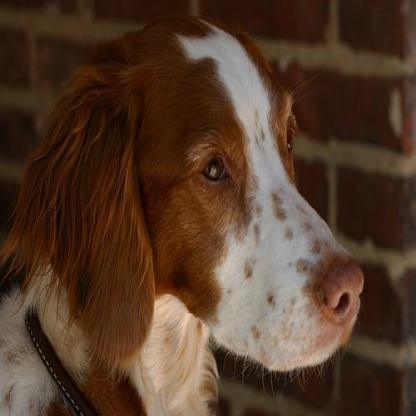Brittany_spaniel: (0, 0, 370, 413)
